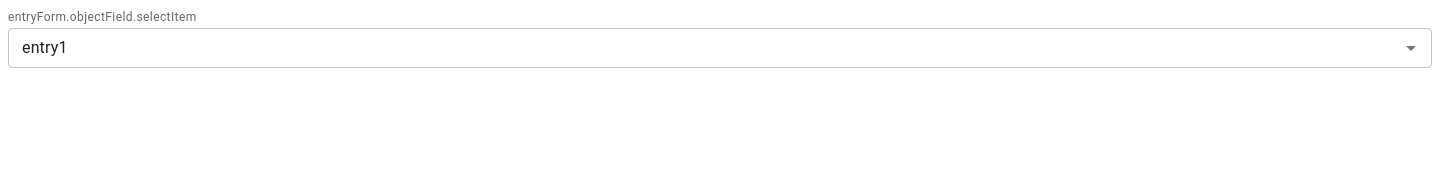
Test: ObjectAttributeValueField › should provide object value editor
Expected: the dropdown holds "entry1", x1=14 y1=34 x2=1367 y2=62
Open the select options
Click the button named "Open" at (1411, 48), box x1=1397 y1=34 x2=1425 y2=62
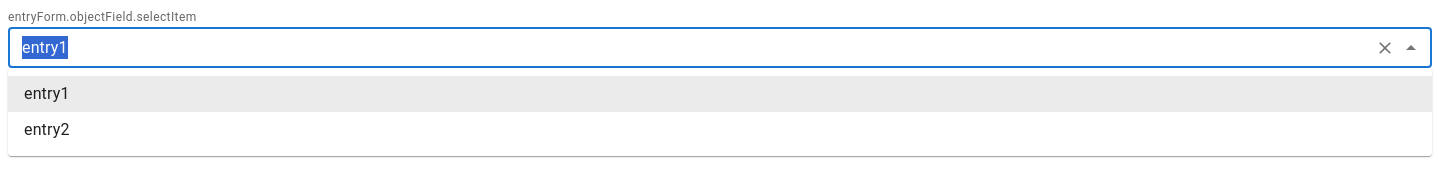
Select "role2" element
Click the option "entry2" at (47, 130), box x1=24 y1=120 x2=70 y2=139
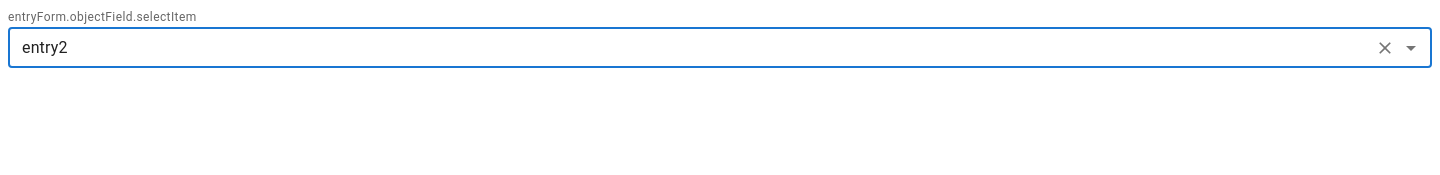
Now the dropdown holds "entry2", box x1=14 y1=34 x2=1367 y2=62
